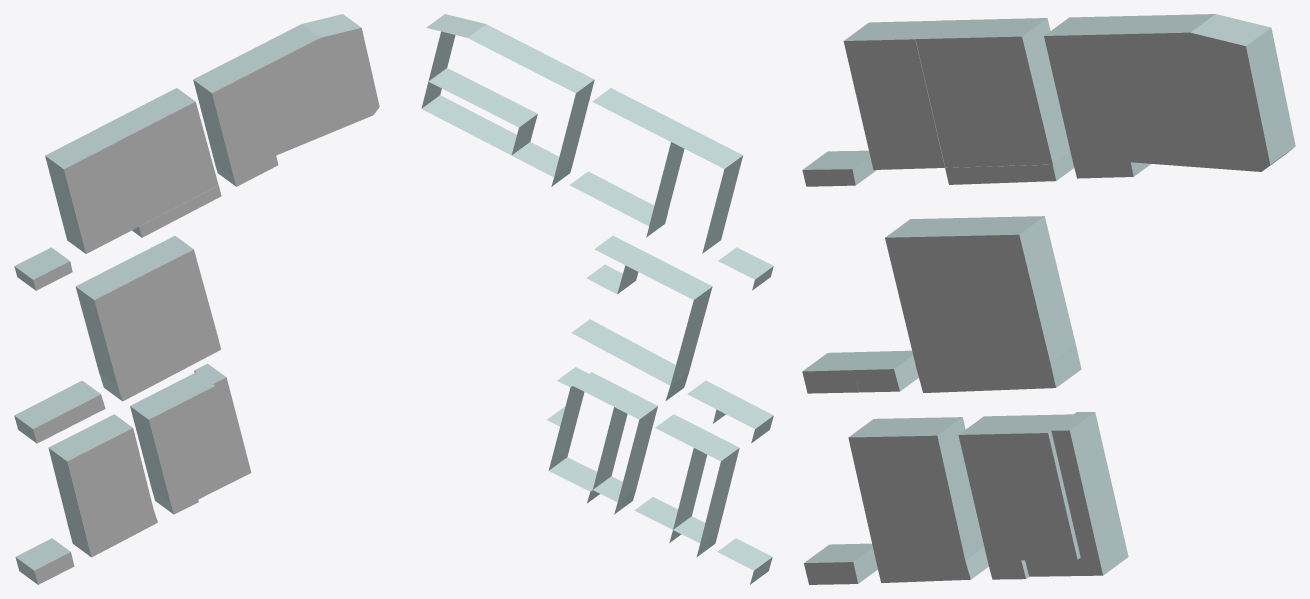
3 views of the same model, side by side, from view 1: azimuth 30°, elevation 25°; view 2: azimuth 150°, elevation 25°; view 3: azimuth 330°, elevation 25° (orthographic). The views are drawn at different scales.
Visible parts, largest first — view 1: 0_2_1_2_3_0_0_2_1; view 2: 0_2_1_2_3_0_0_2_1; view 3: 0_2_1_2_3_0_0_2_1.
Boxes of the visible parts, x1=… form: 0_2_1_2_3_0_0_2_1: x1=14, y1=14, x2=379, y2=584; 0_2_1_2_3_0_0_2_1: x1=421, y1=14, x2=773, y2=584; 0_2_1_2_3_0_0_2_1: x1=802, y1=14, x2=1295, y2=584.
Bounding box in the file's own units: 31.85 × 41.96 × 3.39.
